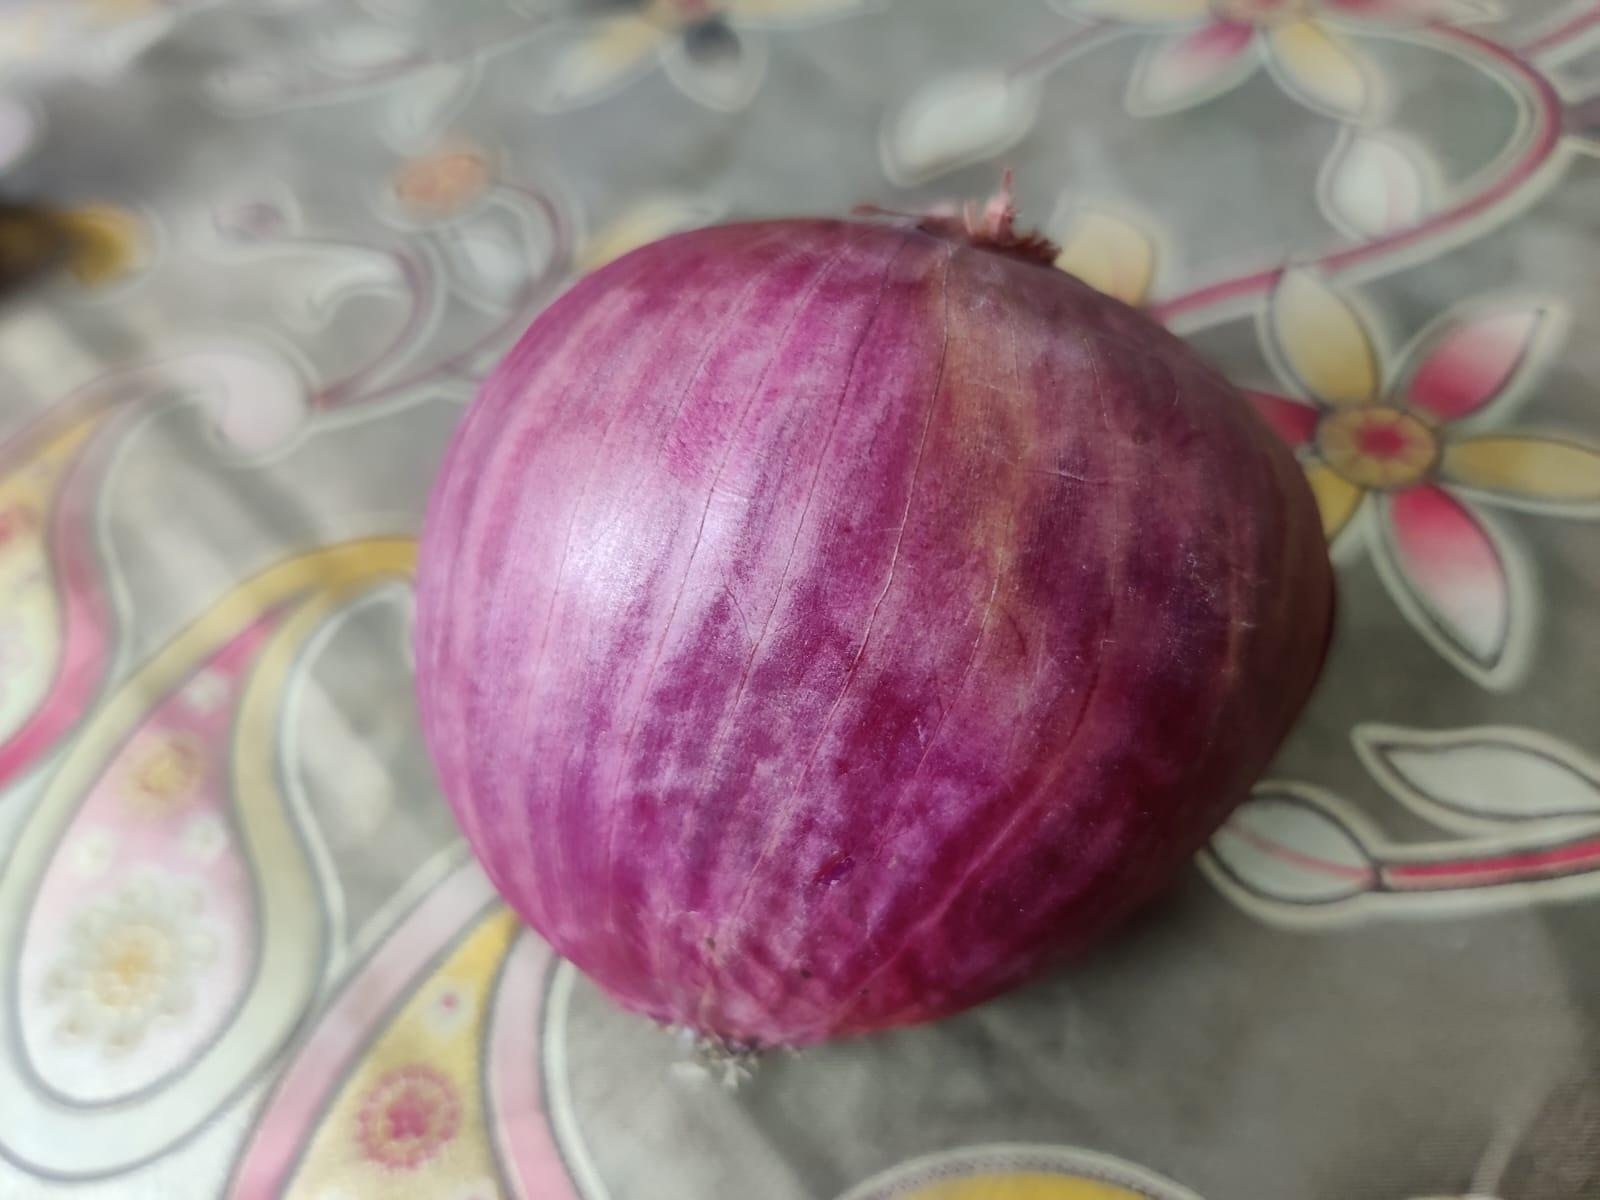non-mango: (420, 198, 1254, 1039)
